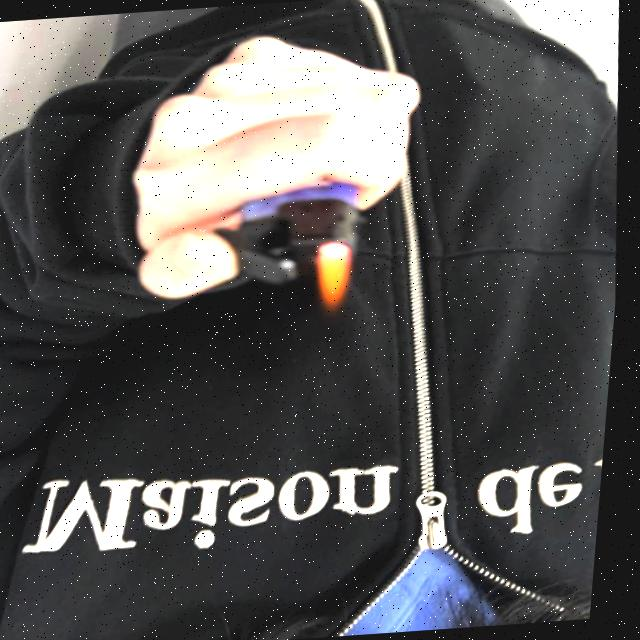Fire: (315, 240, 361, 316)
